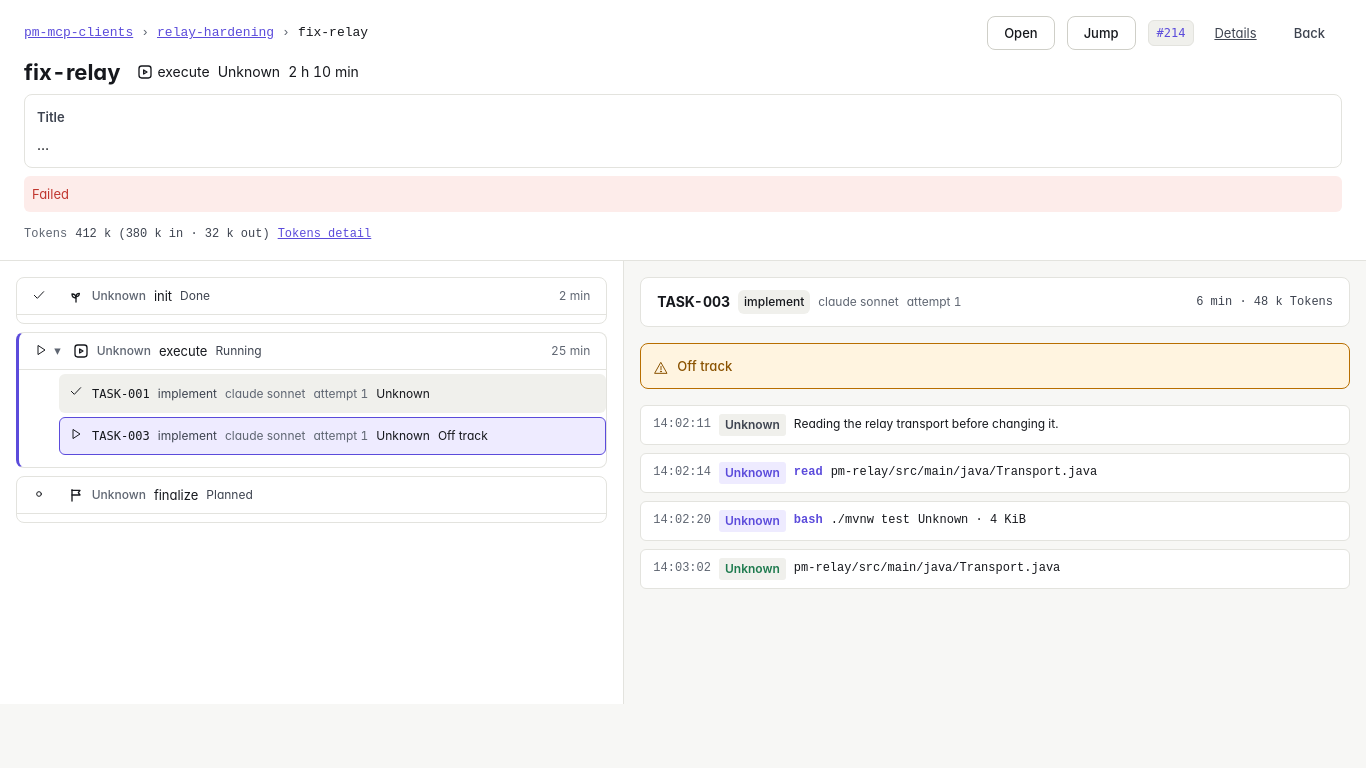
Test: PlanView component › renders the activity entries of a done leaf task
Check: the heading "fix-relay" is shown, box x1=24 y1=62 x2=120 y2=82
Click the button with test id "task-TASK-001" at (333, 394), box x1=59 y1=374 x2=606 y2=413
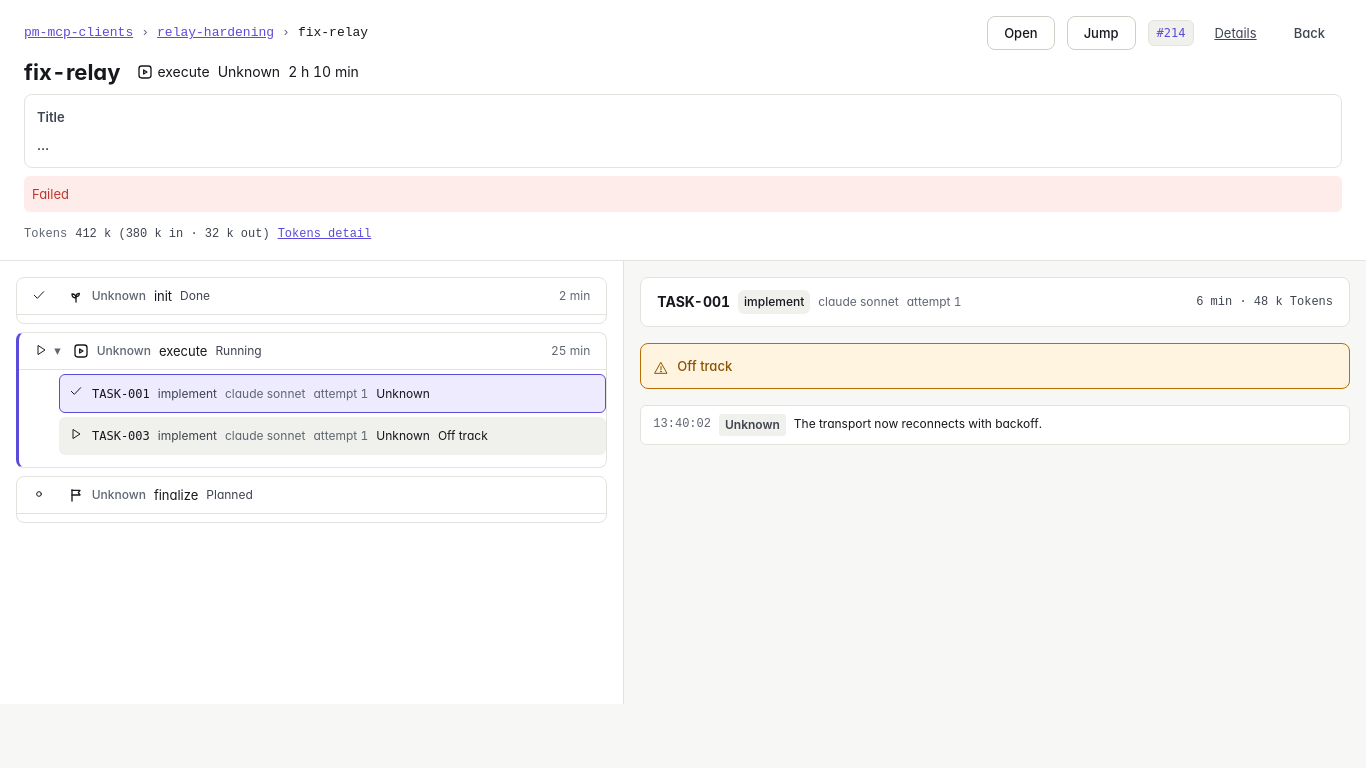
Check: the element with test id "activity-feed" does not show "TASK-003", box x1=640 y1=277 x2=1350 y2=445
Check: the element with test id "activity-feed" shows "The transport now reconnects with backoff.", box x1=794 y1=416 x2=1042 y2=431
Check: the element with test id "activity-feed" shows "TASK-001", box x1=657 y1=293 x2=730 y2=310
